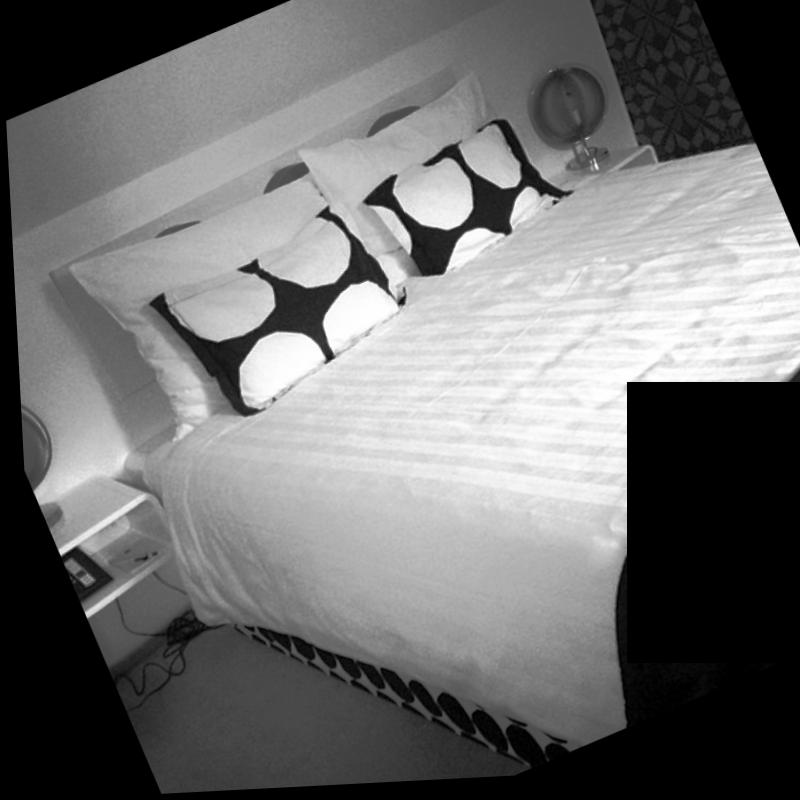pillow: (61, 149, 436, 461), (298, 81, 538, 309), (339, 109, 573, 305)
